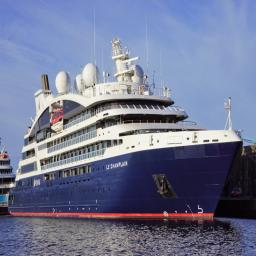cruises: (8, 38, 246, 229)
